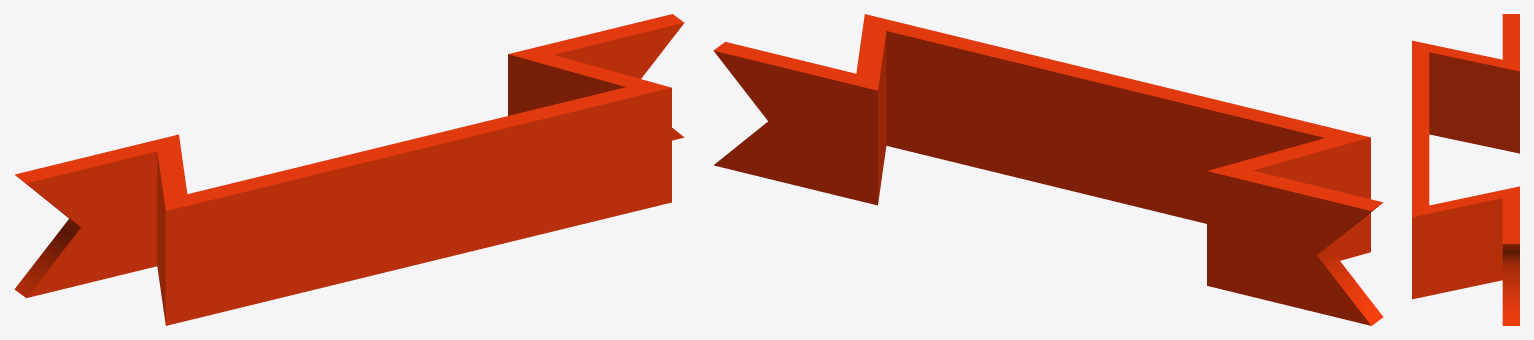
Rendered from Shield_Banner_01.fbx.
The picture shows the model from 3 angles, left to right: view 1: azimuth 30°, elevation 25°; view 2: azimuth 150°, elevation 25°; view 3: azimuth 270°, elevation 25°; orthographic projection. The views are drawn at different scales.
Parts seen in each view (by area): view 1: Shield_Banner_01; view 2: Shield_Banner_01; view 3: Shield_Banner_01.
Boxes of the visible parts, x1=… form: Shield_Banner_01: x1=14, y1=14, x2=684, y2=325; Shield_Banner_01: x1=713, y1=14, x2=1383, y2=325; Shield_Banner_01: x1=1412, y1=14, x2=1519, y2=325.
Bounding box in the file's own units: 1.2 × 0.2 × 0.2379.
